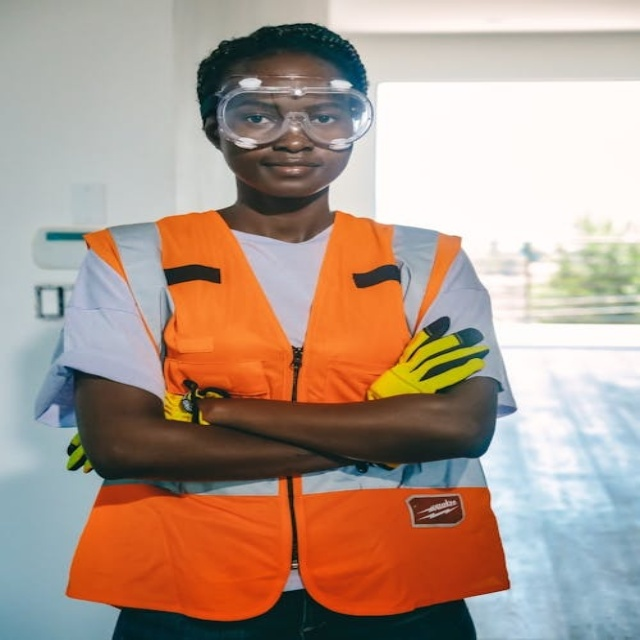Gafas: (210, 76, 376, 151)
Guantes: (357, 308, 503, 408), (159, 380, 233, 425), (50, 424, 100, 479)
Sin_mascara: (246, 154, 332, 186)
